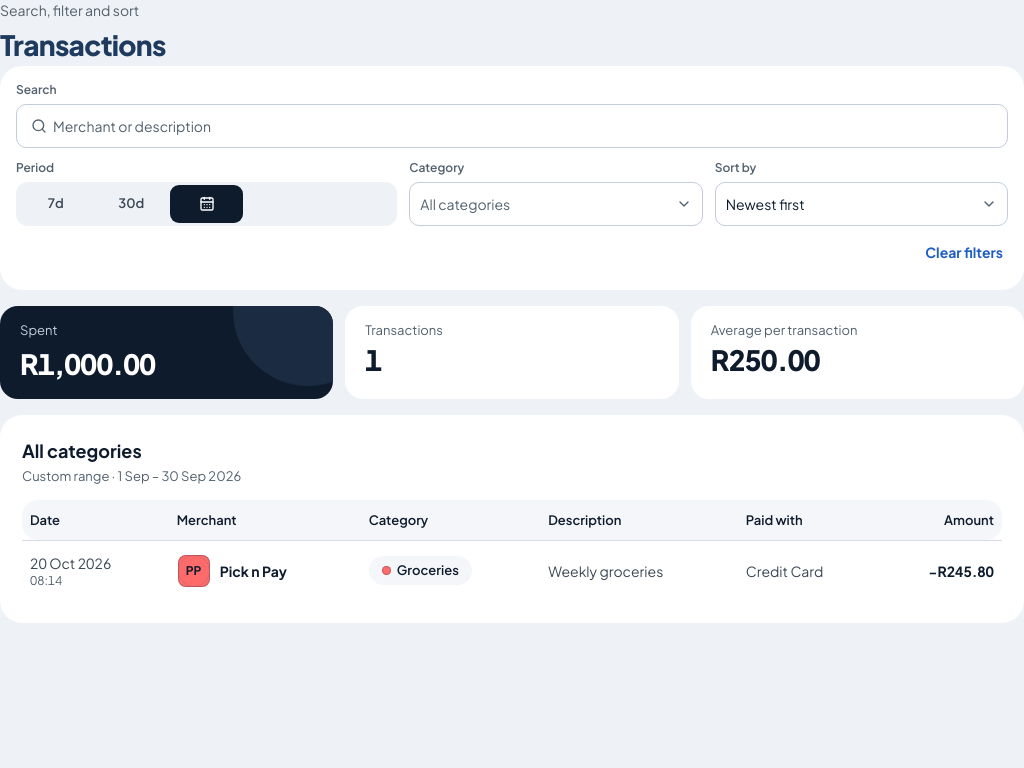
TransactionsExplorer custom range › keeps an incomplete range out of the URL
The image size is (1024, 768).
What coordinates should you click on to do the following:
click the button named "Custom range"
I would click on:
 (207, 204)
Its box is 170,185 -> 243,223.
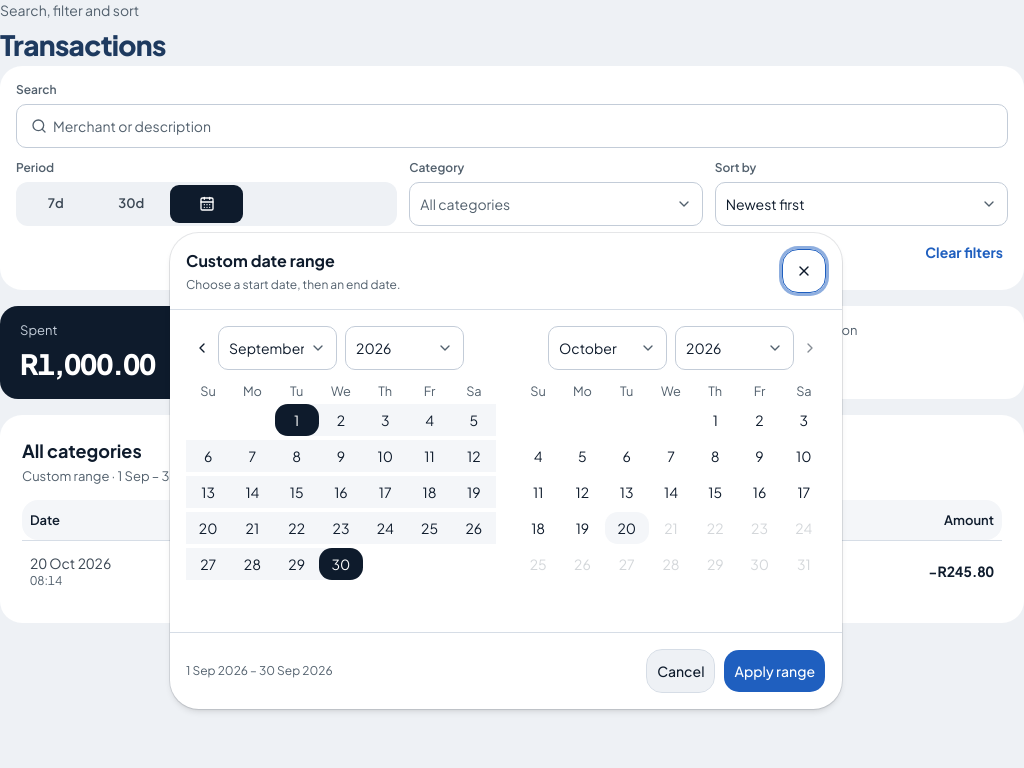
What coordinates should you click on to do the following:
click the button named "September 10"
I would click on:
 (385, 456)
Its box is 363,440 -> 407,472.
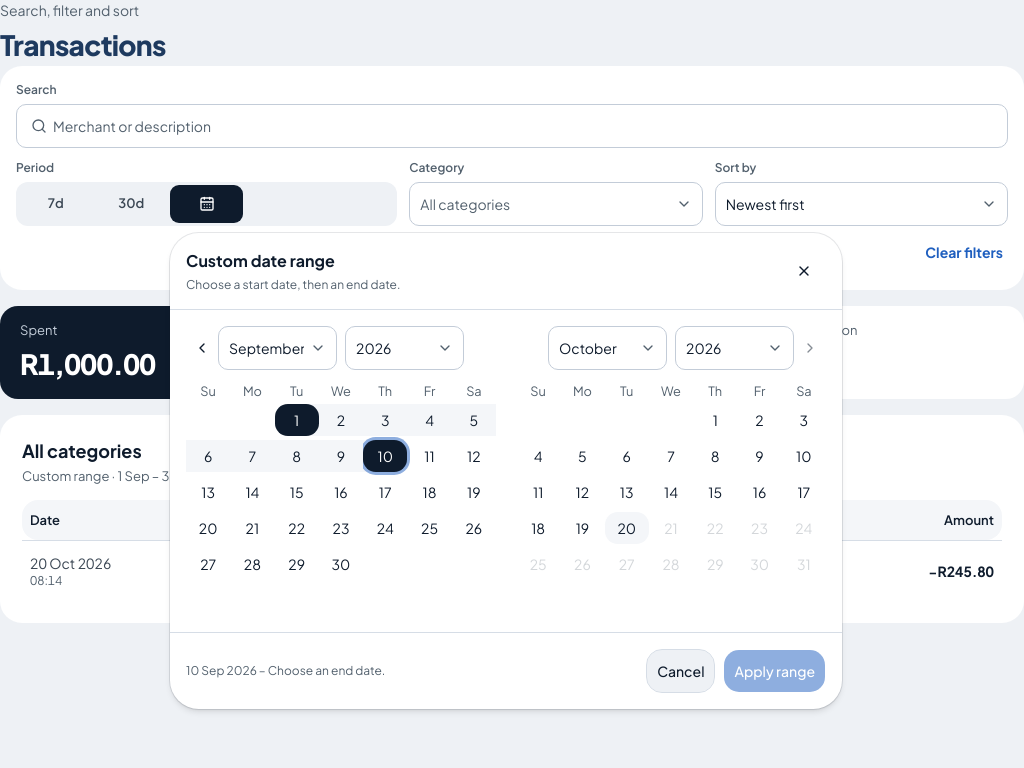
Expected: the button "Apply range" is disabled, 724,649 -> 826,693
